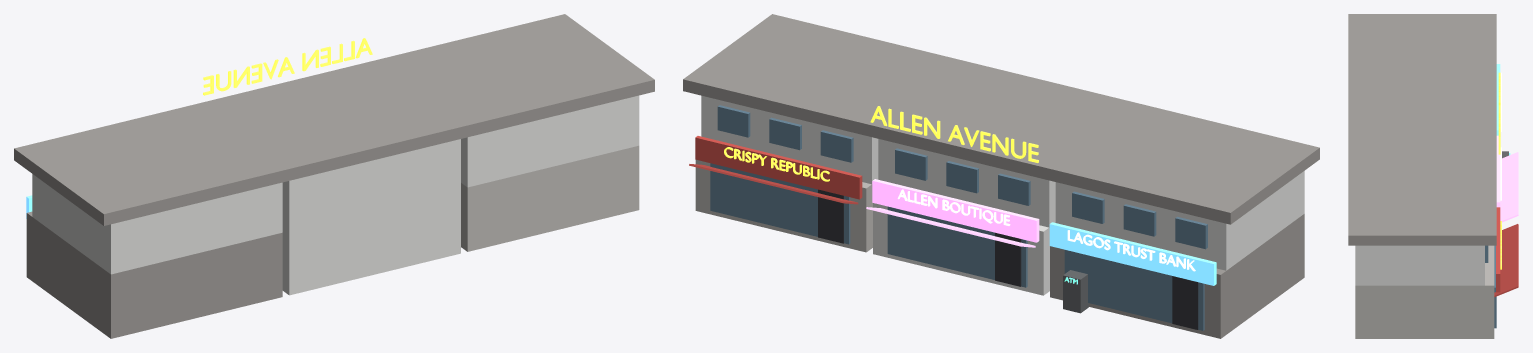
The model's file is allen_shops.glb.
3 views of the same model, side by side, from view 1: azimuth 30°, elevation 25°; view 2: azimuth 150°, elevation 25°; view 3: azimuth 270°, elevation 25° (orthographic). The views are drawn at different scales.
Parts seen in each view (by area): view 1: BLD_allen_shops; view 2: BLD_allen_shops; view 3: BLD_allen_shops.
Boxes of the visible parts, box(x1,y1,x2,y2) form: BLD_allen_shops: box(14, 14, 654, 338); BLD_allen_shops: box(683, 14, 1319, 338); BLD_allen_shops: box(1348, 14, 1518, 338).
Size of the model in its own units: 34 by 9.03 by 11.04.
